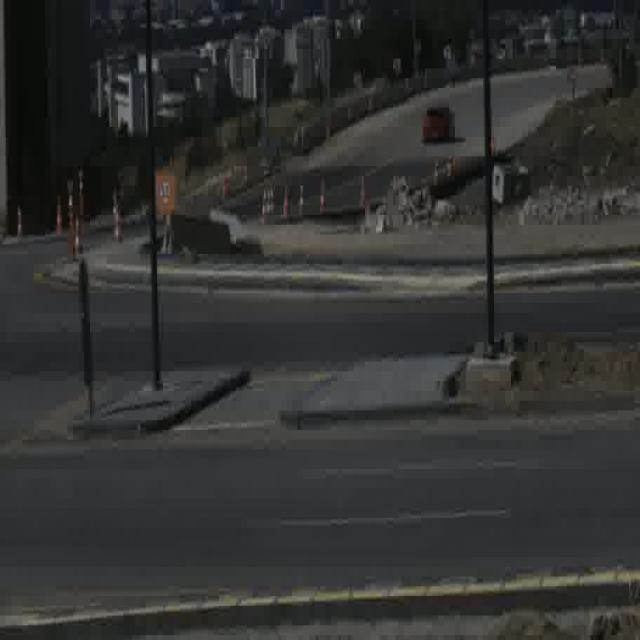Car: (421, 102, 456, 146)
